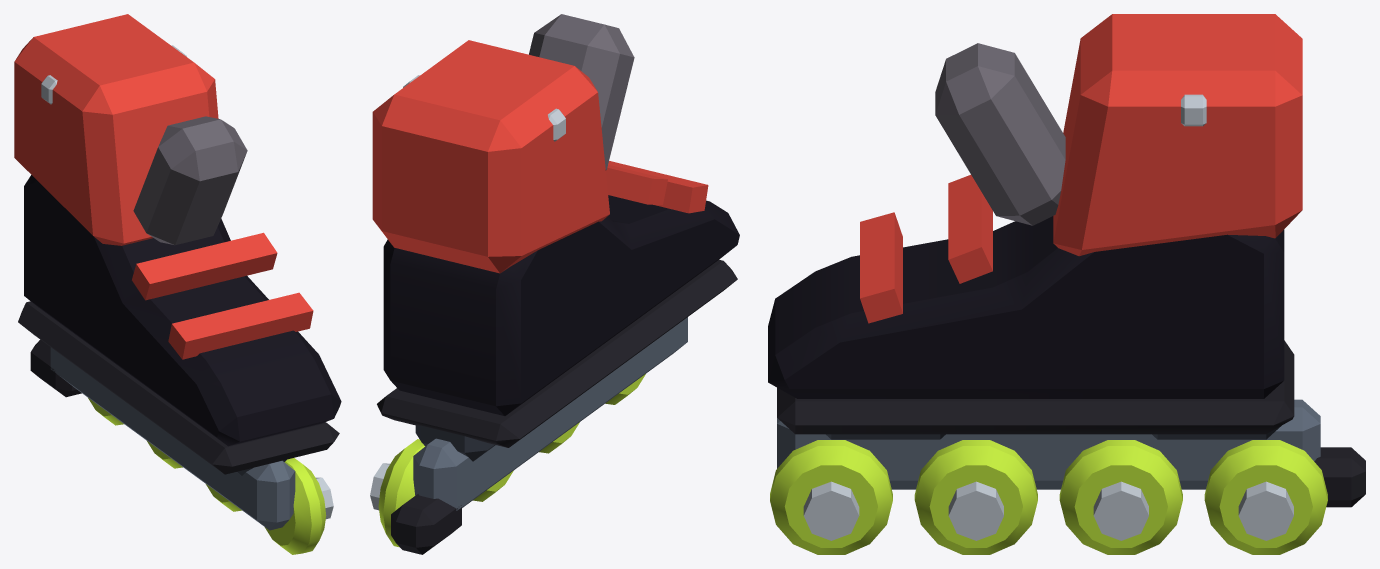
File: inline_skate.glb
3 renders of one model, left to right at view 1: azimuth 30°, elevation 25°; view 2: azimuth 150°, elevation 25°; view 3: azimuth 270°, elevation 25°, orthographic. The views are drawn at different scales.
Parts seen in each view (by area): view 1: inline_skate; view 2: inline_skate; view 3: inline_skate.
Part boxes in pixels (x1=…): inline_skate: x1=14, y1=14, x2=341, y2=554; inline_skate: x1=370, y1=14, x2=739, y2=554; inline_skate: x1=768, y1=14, x2=1365, y2=554.
Bounding box in the file's own units: 0.108 × 0.2991 × 0.33.
1 material, 1 textured.
